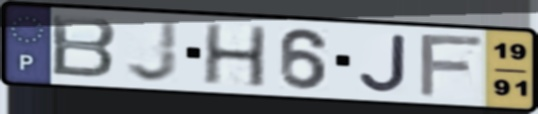6: (277, 27, 331, 92)
B: (48, 13, 119, 81)
F: (416, 33, 487, 99)
H: (200, 22, 270, 90)
J: (123, 18, 181, 84), (357, 32, 409, 94)
